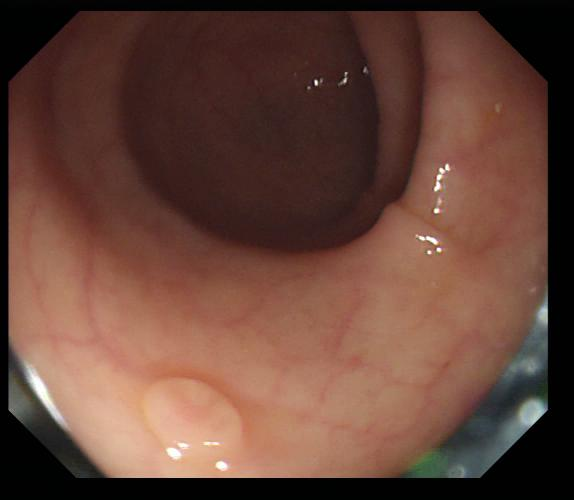polyp: (143, 377, 243, 474)
